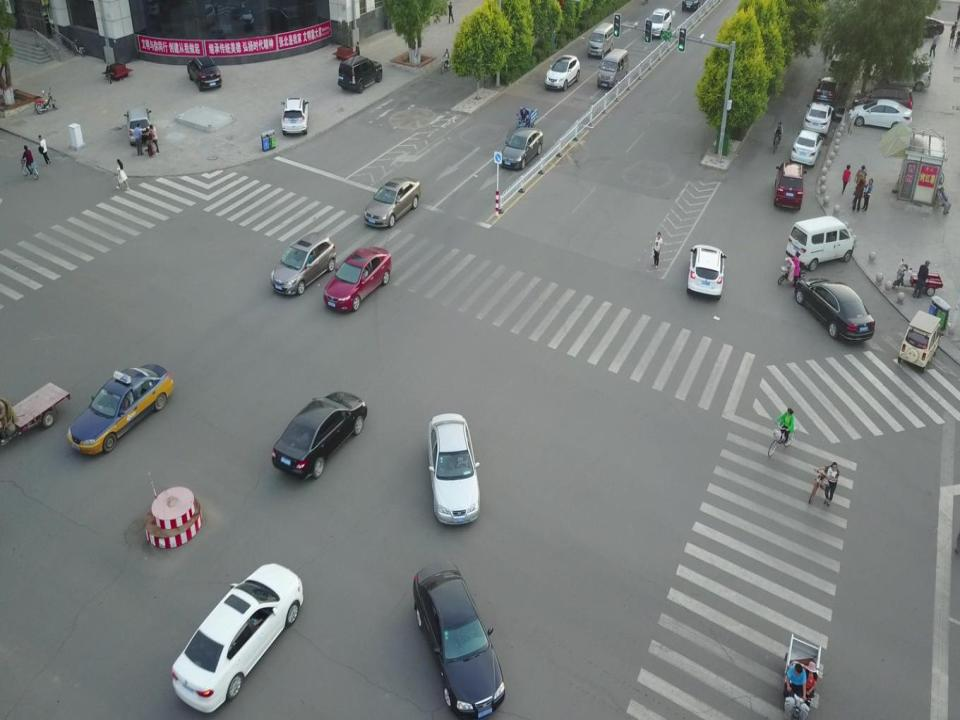car: (172, 562, 302, 713), (413, 561, 504, 719), (68, 362, 173, 456), (271, 391, 367, 482), (428, 413, 480, 524), (795, 276, 875, 342), (324, 246, 392, 312), (271, 229, 336, 296), (364, 175, 420, 227), (896, 310, 942, 371), (687, 243, 726, 300), (853, 84, 913, 121), (876, 56, 932, 93), (848, 100, 912, 132), (498, 126, 544, 170), (803, 101, 845, 141), (338, 56, 383, 93), (790, 129, 824, 168), (187, 56, 221, 92), (545, 55, 579, 90), (123, 107, 152, 148), (281, 97, 308, 135), (827, 43, 852, 84), (904, 16, 944, 40), (645, 7, 672, 36), (814, 78, 843, 105)
van: (786, 215, 854, 271), (772, 163, 807, 210), (597, 48, 628, 91), (587, 22, 614, 59)
